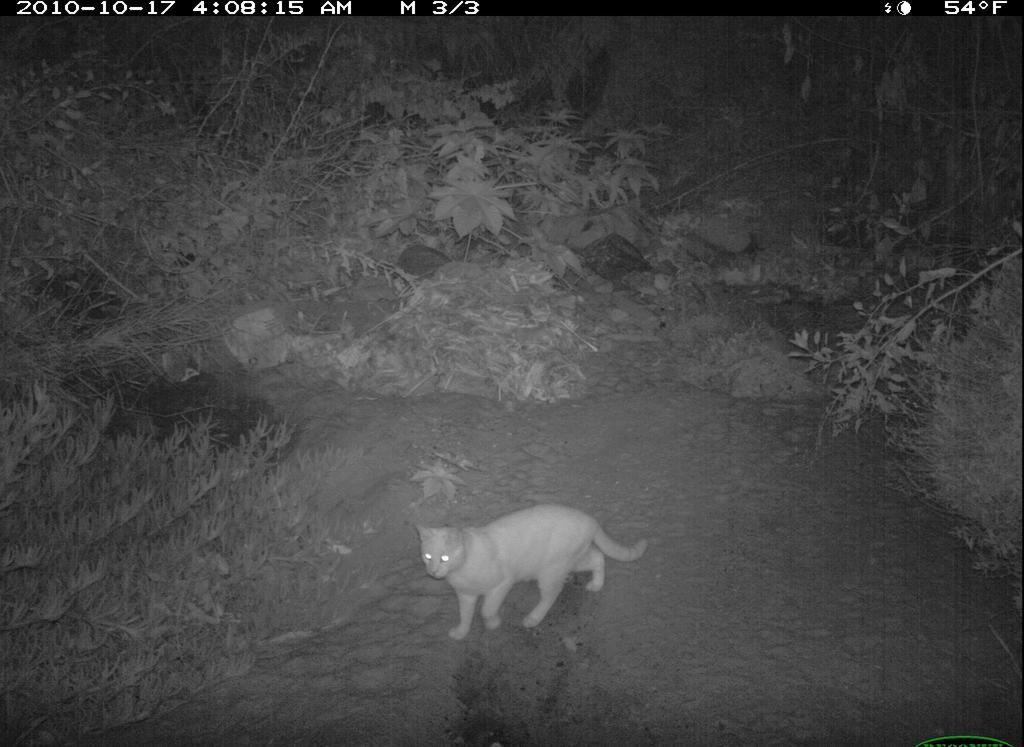cat: (408, 489, 657, 651)
